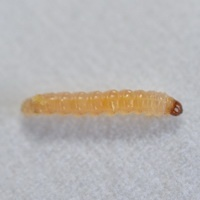insect: (21, 90, 182, 115)
